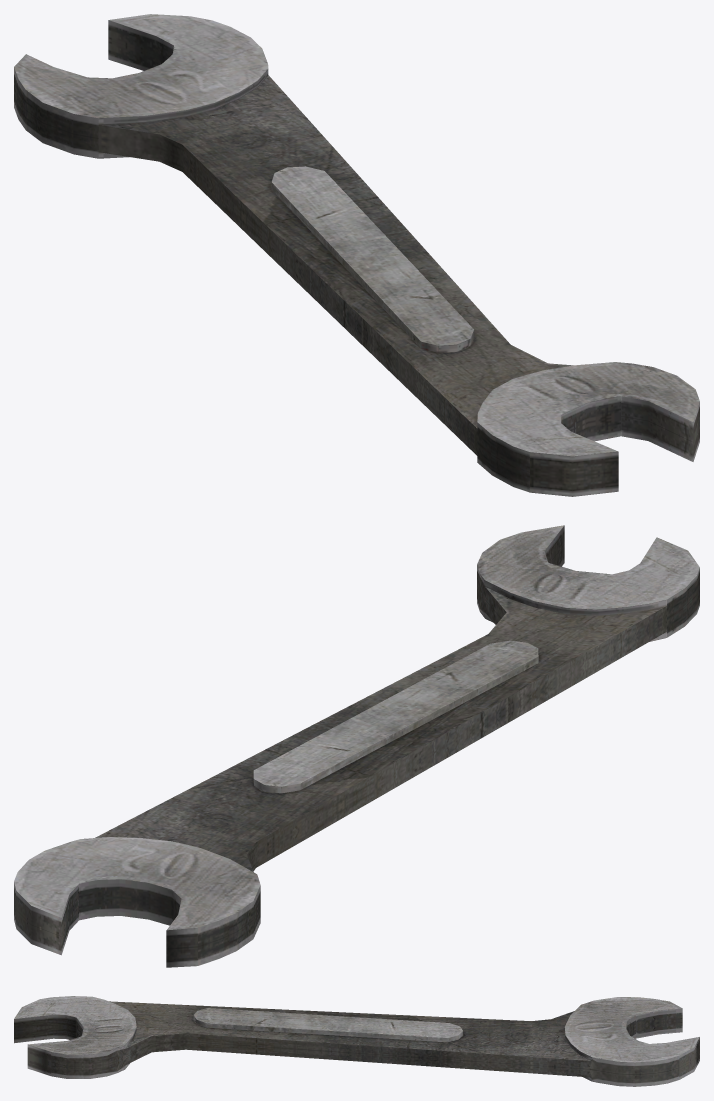
The model's file is wrench.dae.
3 renders of one model, top to bottom at view 1: azimuth 30°, elevation 25°; view 2: azimuth 150°, elevation 25°; view 3: azimuth 270°, elevation 25°, orthographic. The views are drawn at different scales.
Parts seen in each view (by area): view 1: wrench; view 2: wrench; view 3: wrench.
Boxes of the visible parts, <box> form: wrench: <box>14,14,699,496</box>; wrench: <box>14,525,699,967</box>; wrench: <box>14,996,699,1086</box>.
Bounding box in the file's own units: 0.069 × 0.0121 × 0.301.
